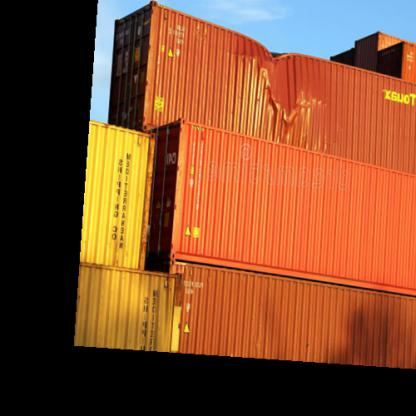Damage: (254, 50, 314, 134)
